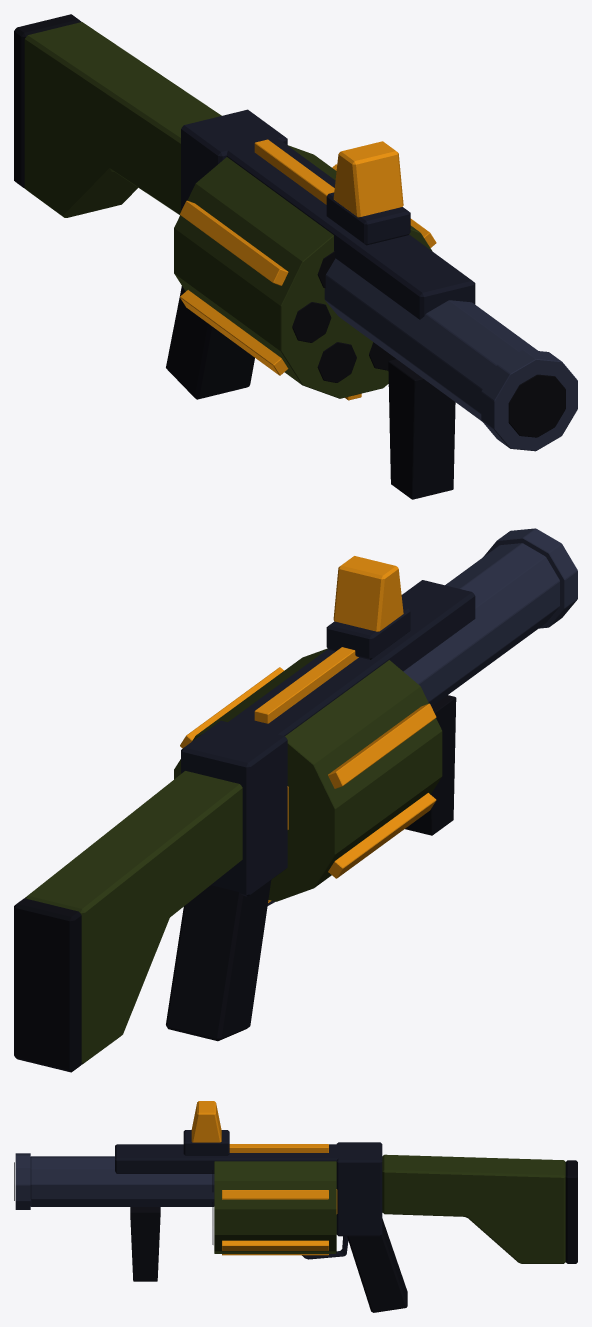
The model's file is myw_grenadelauncher.obj.
3 renders of one model, top to bottom at view 1: azimuth 30°, elevation 25°; view 2: azimuth 150°, elevation 25°; view 3: azimuth 270°, elevation 25°, orthographic. The views are drawn at different scales.
Visible parts, largest first — view 1: Frame, Cylinder, Barrel, Sight; view 2: Frame, Cylinder, Barrel, Sight; view 3: Frame, Cylinder, Barrel, Sight.
Boxes of the visible parts, x1,y1,x2,y2 form: Frame: (14,14,475,399); Cylinder: (174,139,436,400); Barrel: (324,258,577,499); Sight: (326,141,410,245); Frame: (14,580,475,1072); Cylinder: (174,647,442,902); Barrel: (403,528,577,835); Sight: (326,556,410,659); Frame: (115,1142,577,1312); Cylinder: (212,1144,336,1255); Barrel: (14,1153,214,1281); Sight: (183,1101,229,1155).
Size of the model in its own units: 0.703 by 1.44 by 3.69.
